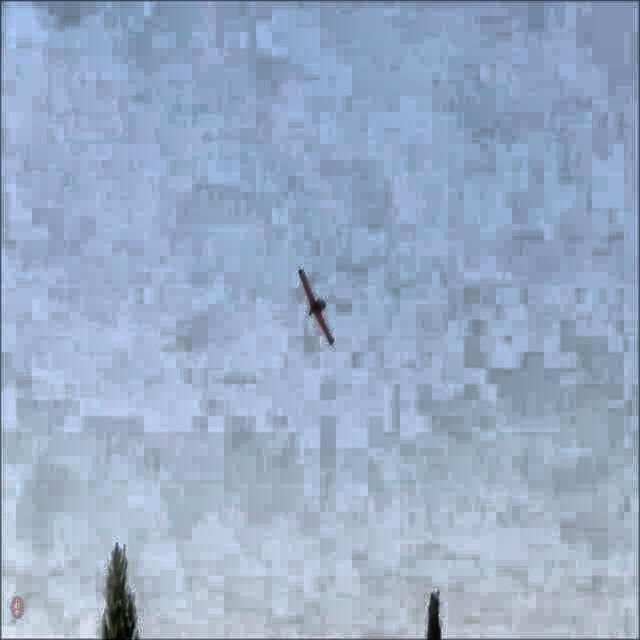iha: (293, 293, 342, 319)
